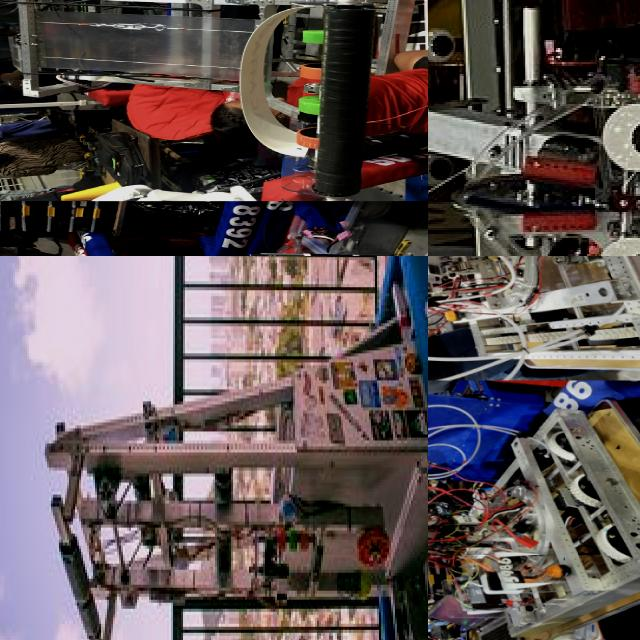FRC-Robots: (0, 256, 428, 640), (0, 0, 428, 196), (428, 0, 640, 256), (428, 403, 640, 640), (428, 256, 640, 396)
